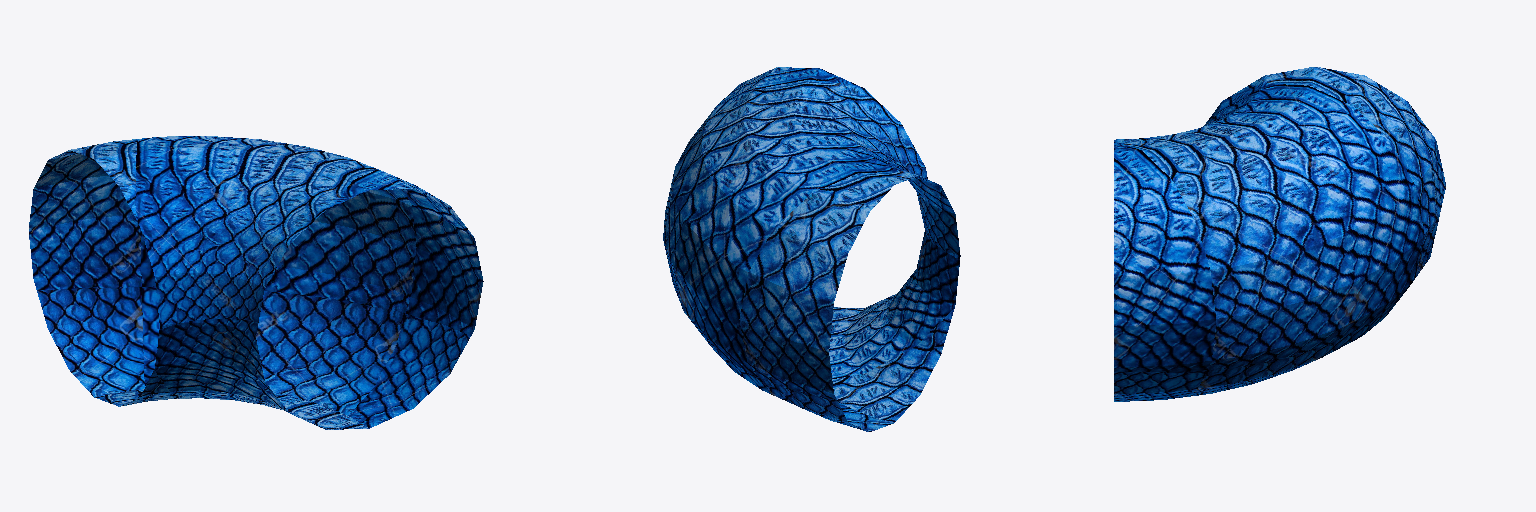
3 renders of one model, left to right at view 1: azimuth 30°, elevation 25°; view 2: azimuth 150°, elevation 25°; view 3: azimuth 270°, elevation 25°, orthographic.
Parts seen in each view (by area): view 1: SnakeBodyPart; view 2: SnakeBodyPart; view 3: SnakeBodyPart.
Part boxes in pixels (bbox=[...]): SnakeBodyPart: bbox=[29, 136, 483, 429]; SnakeBodyPart: bbox=[663, 67, 960, 431]; SnakeBodyPart: bbox=[1114, 67, 1445, 401].
Size of the model in its own units: 0.8243 by 0.65 by 0.8229.
1 materials, 1 textured.